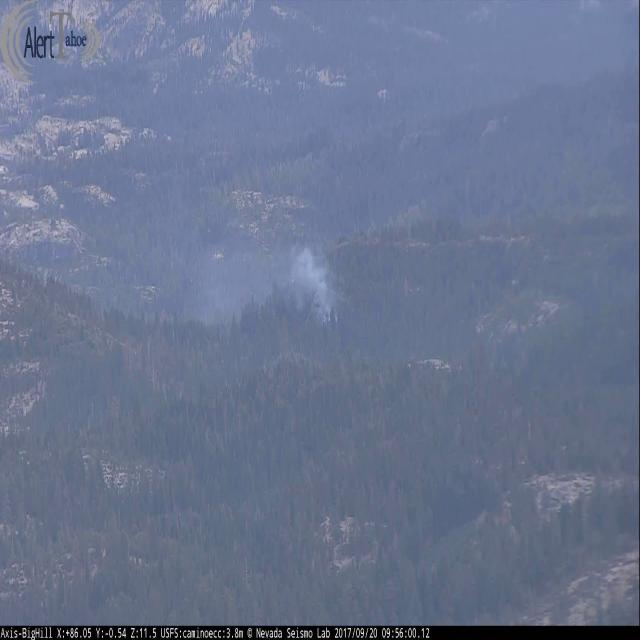smoke: (194, 226, 343, 329)
